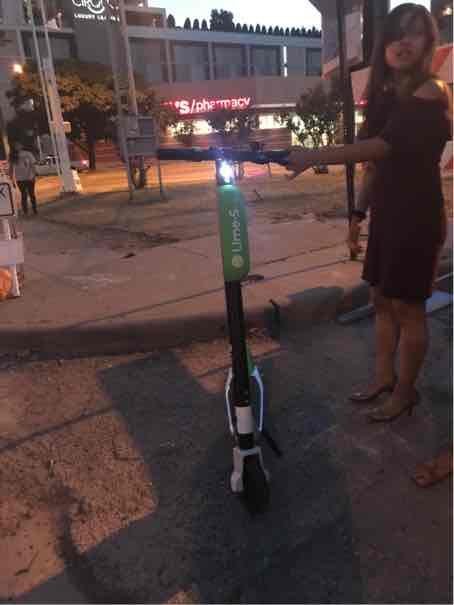scooter: (154, 130, 302, 518)
